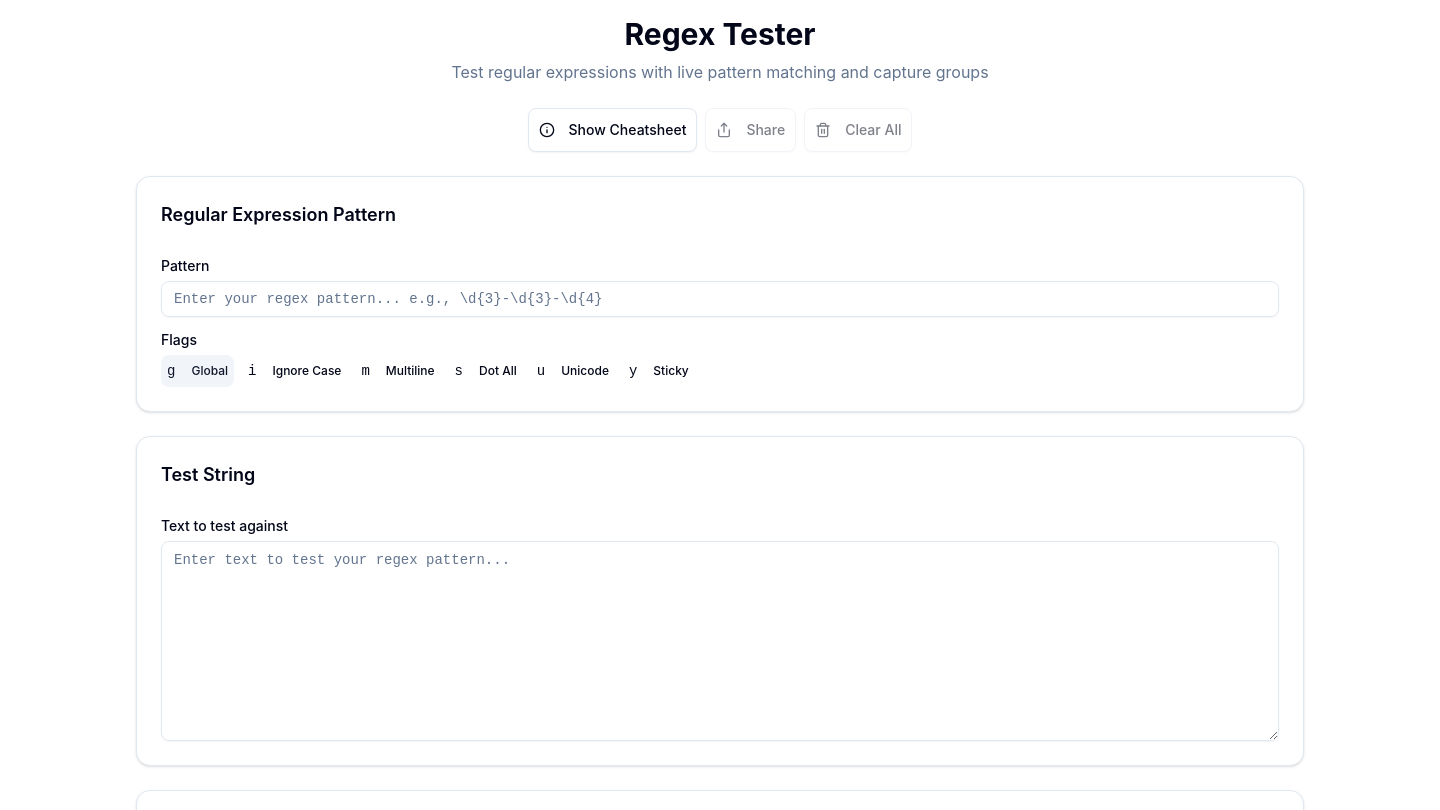
Test: RegexTester › clear all button clears both inputs
Type "\\d+" into the field labelled "Pattern" at (720, 299), box [161,281,1279,317]
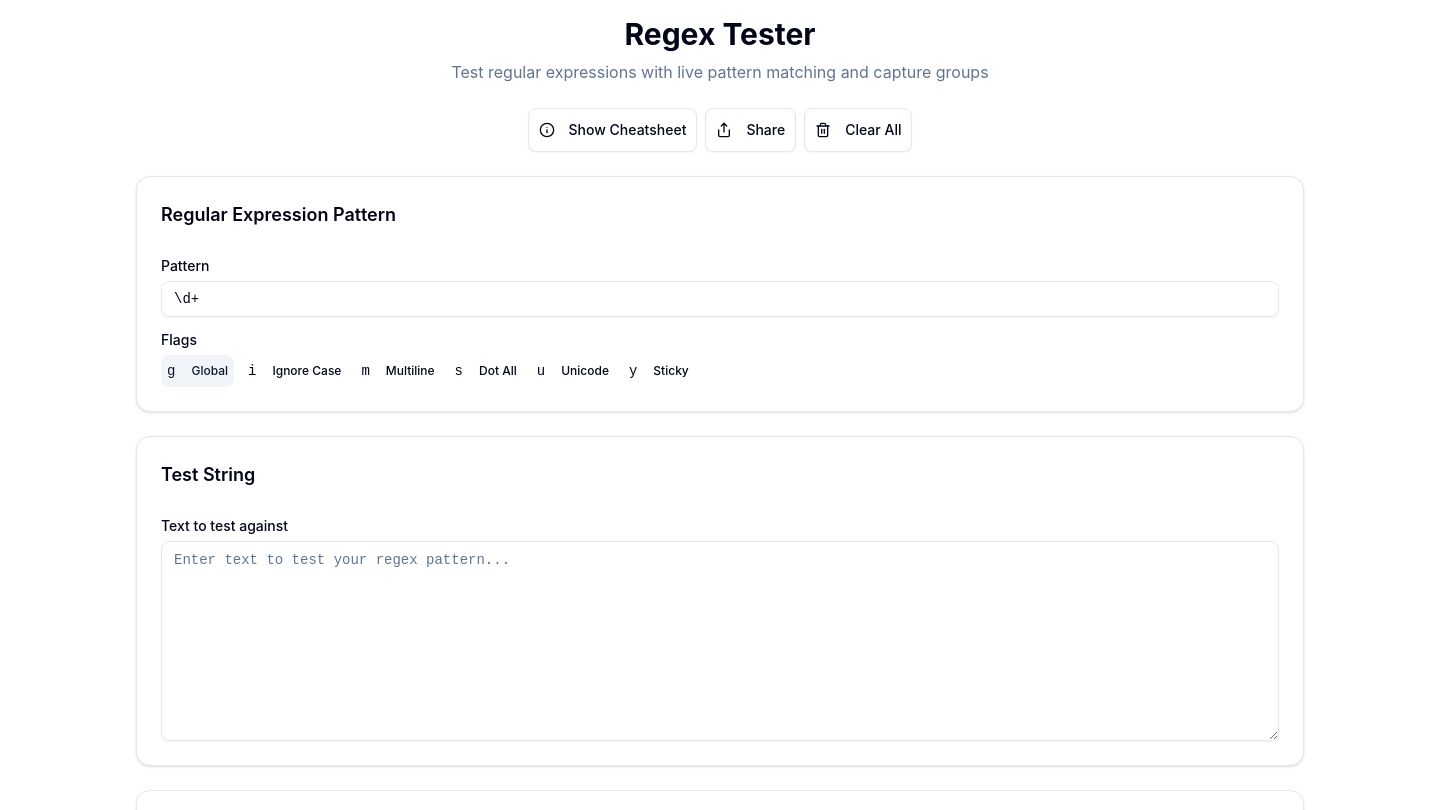
Type "123" into the text box labelled "Text to test against" at (720, 641), box [161,541,1279,741]
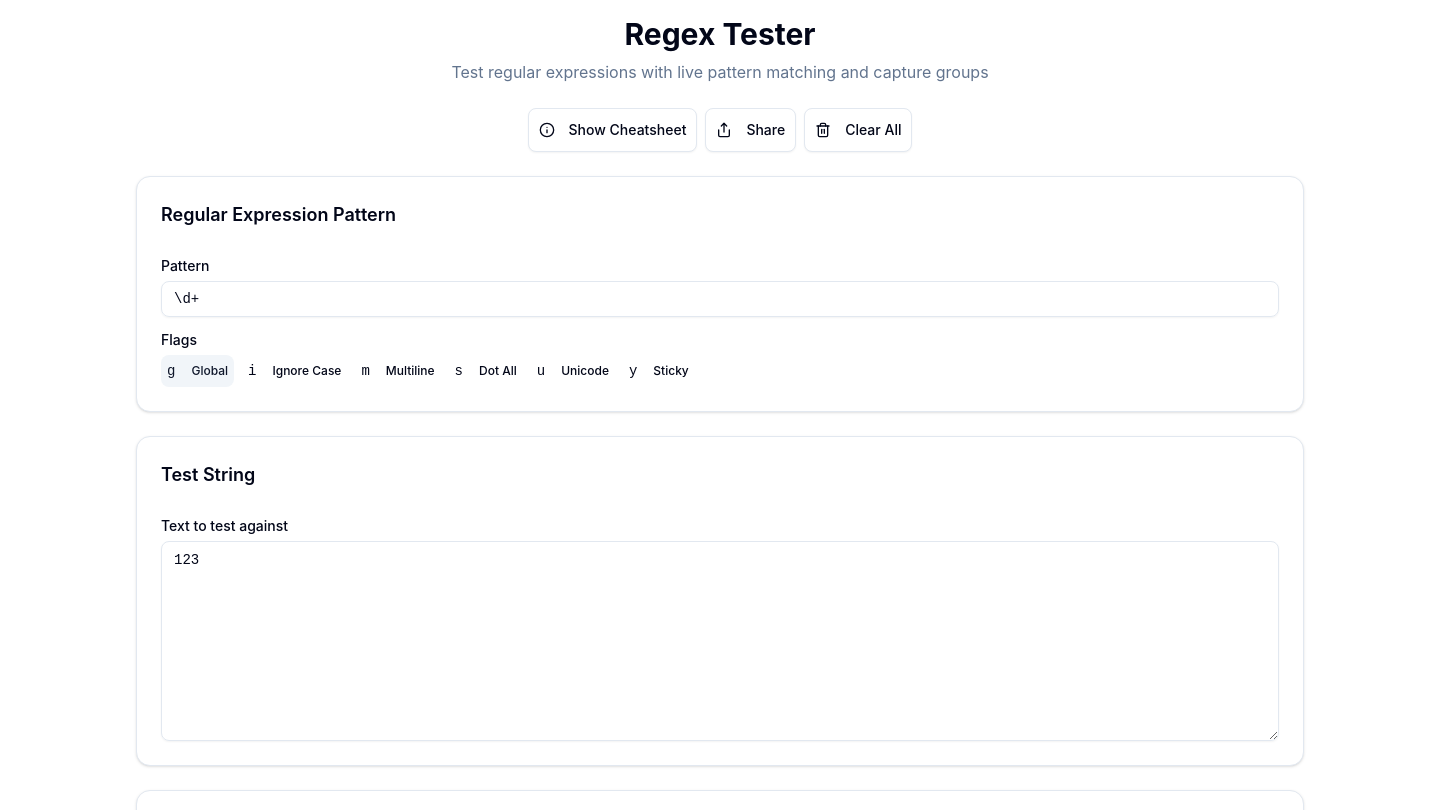
Click the button "Clear All" at (858, 130), box [804,108,912,152]
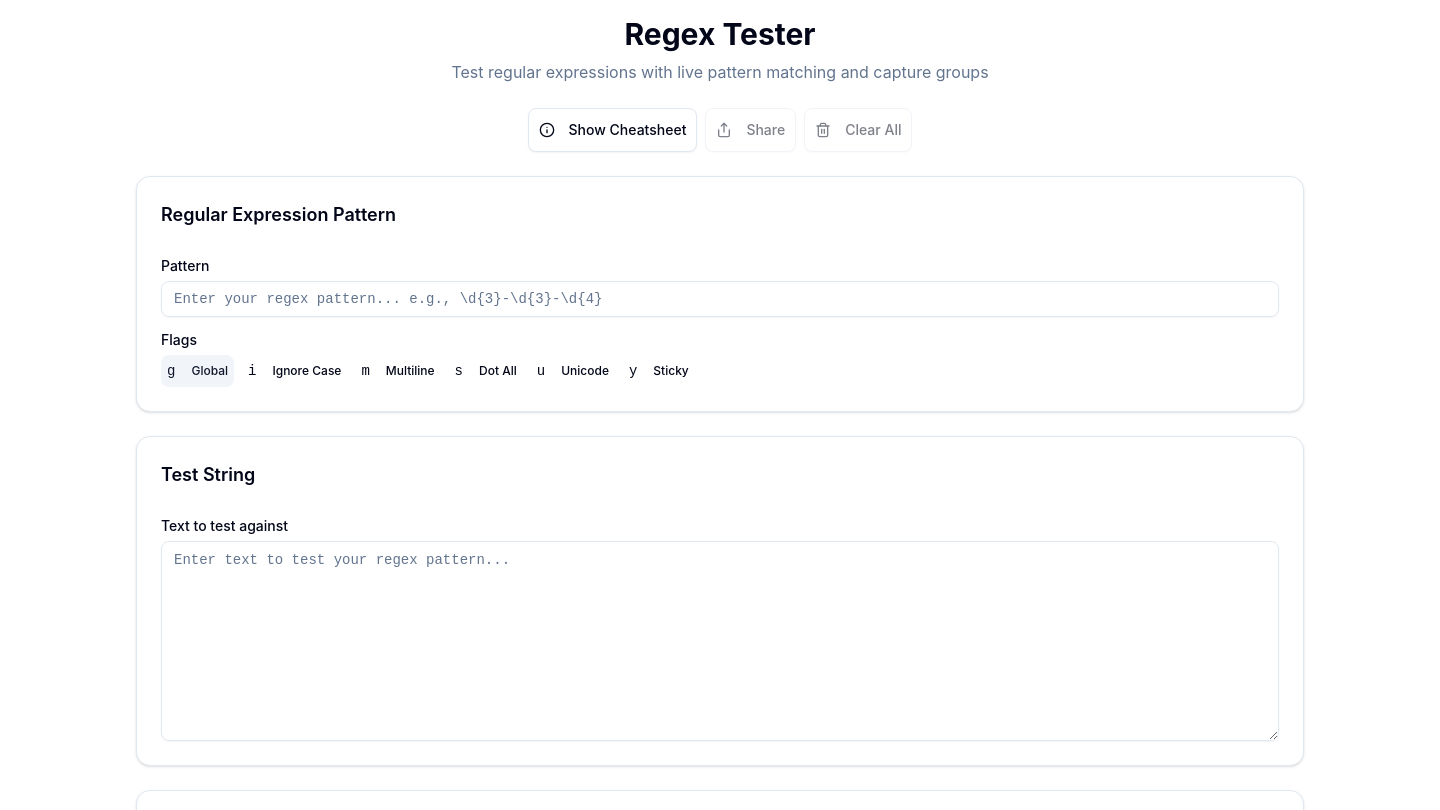
Expected: the field labelled "Pattern" is empty, [161,281,1279,317]
Expected: the text box labelled "Text to test against" is empty, [161,541,1279,741]
